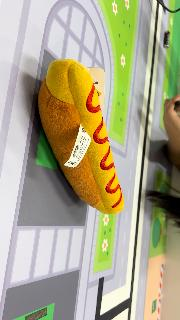hotdog: (38, 58, 126, 215)
